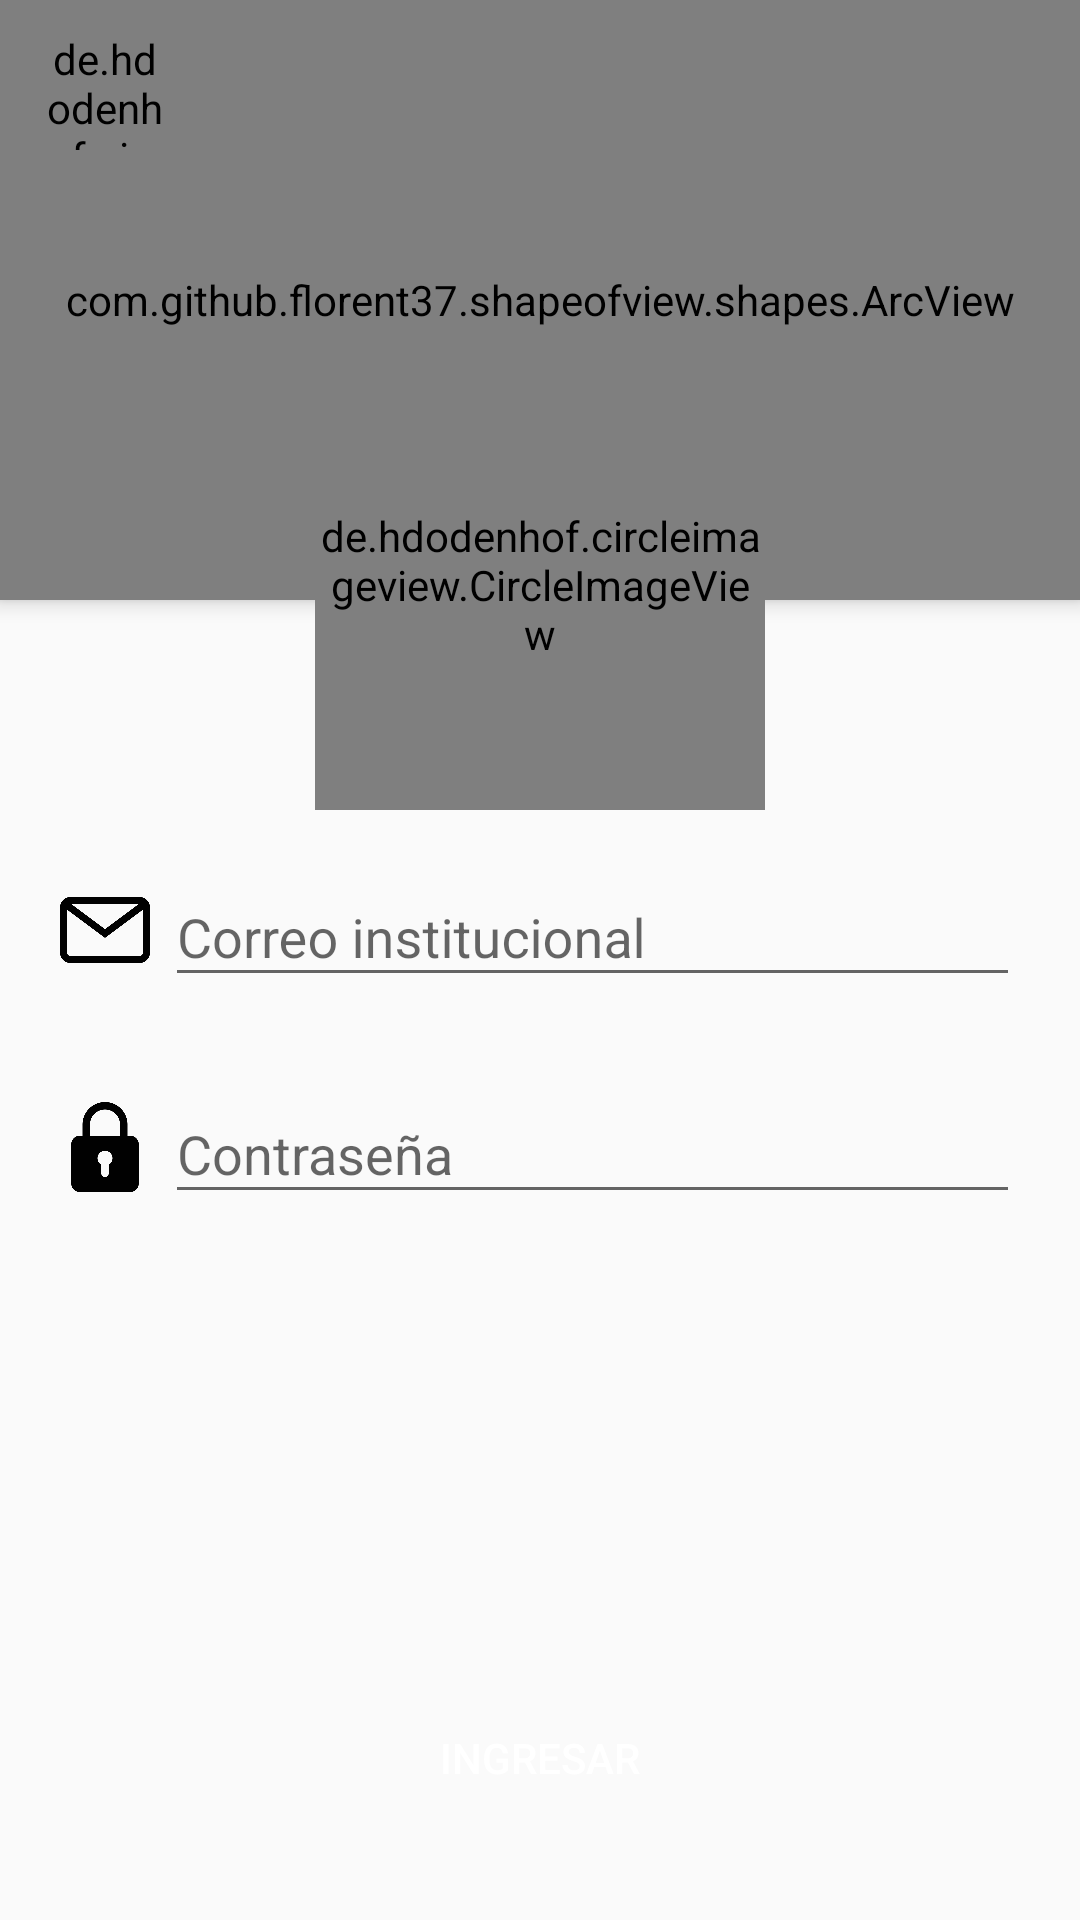

Named icons in this screenshot (1080px x 1920px) and their centers, point (x, y):
mail: point (105, 930)
padlock: point (105, 1147)
